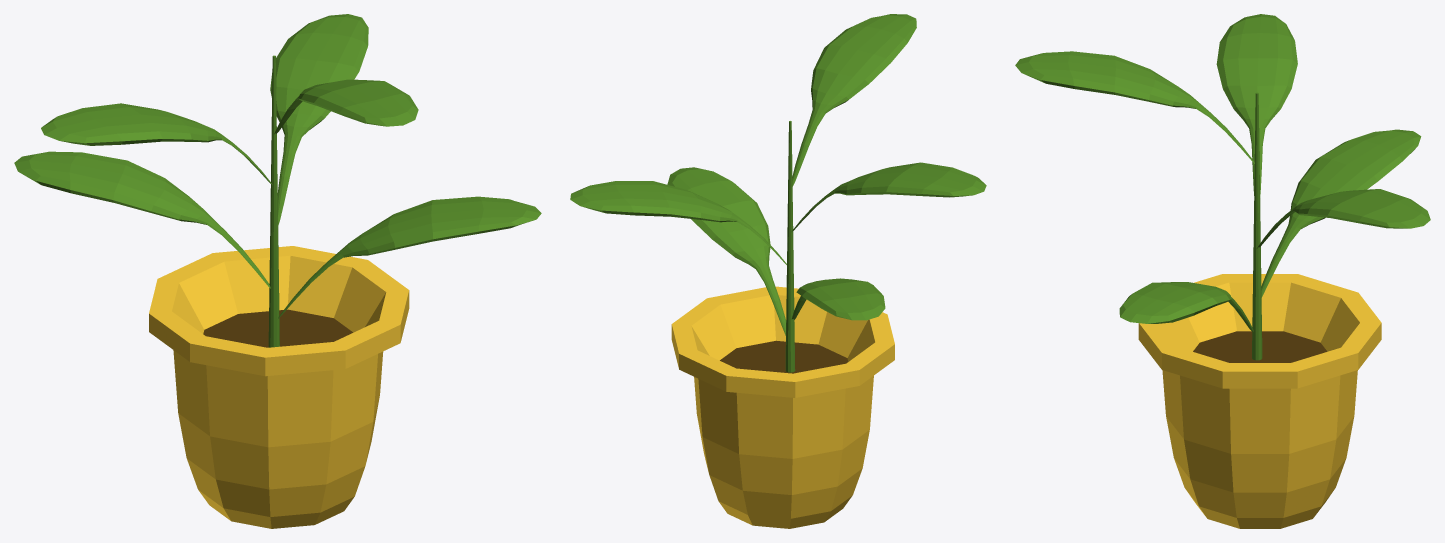
Rendered from Tree Pot_16.fbx.
3 renders of one model, left to right at view 1: azimuth 30°, elevation 25°; view 2: azimuth 150°, elevation 25°; view 3: azimuth 270°, elevation 25°, orthographic. The views are drawn at different scales.
Parts seen in each view (by area): view 1: Tree Pot_16; view 2: Tree Pot_16; view 3: Tree Pot_16.
Boxes of the visible parts, <box> form: Tree Pot_16: <box>14,14,541,528</box>; Tree Pot_16: <box>570,14,986,528</box>; Tree Pot_16: <box>1015,14,1430,528</box>.
Bounding box in the file's own units: 0.4395 × 0.4684 × 0.4045.
